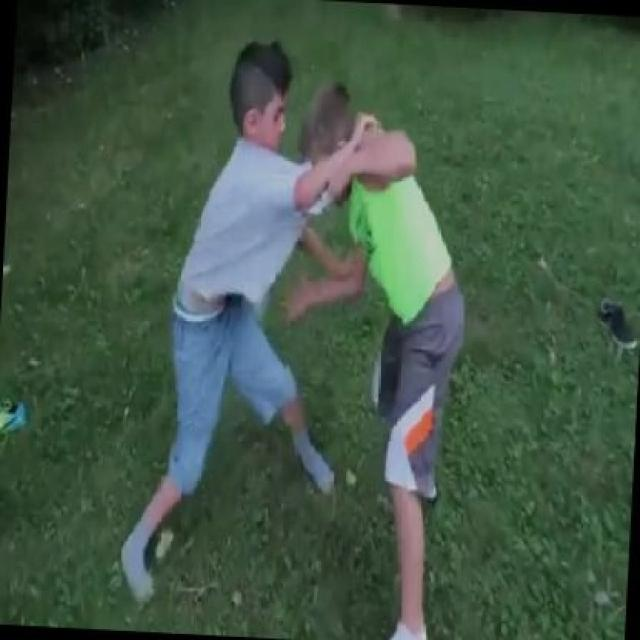fight: (74, 9, 531, 637)
